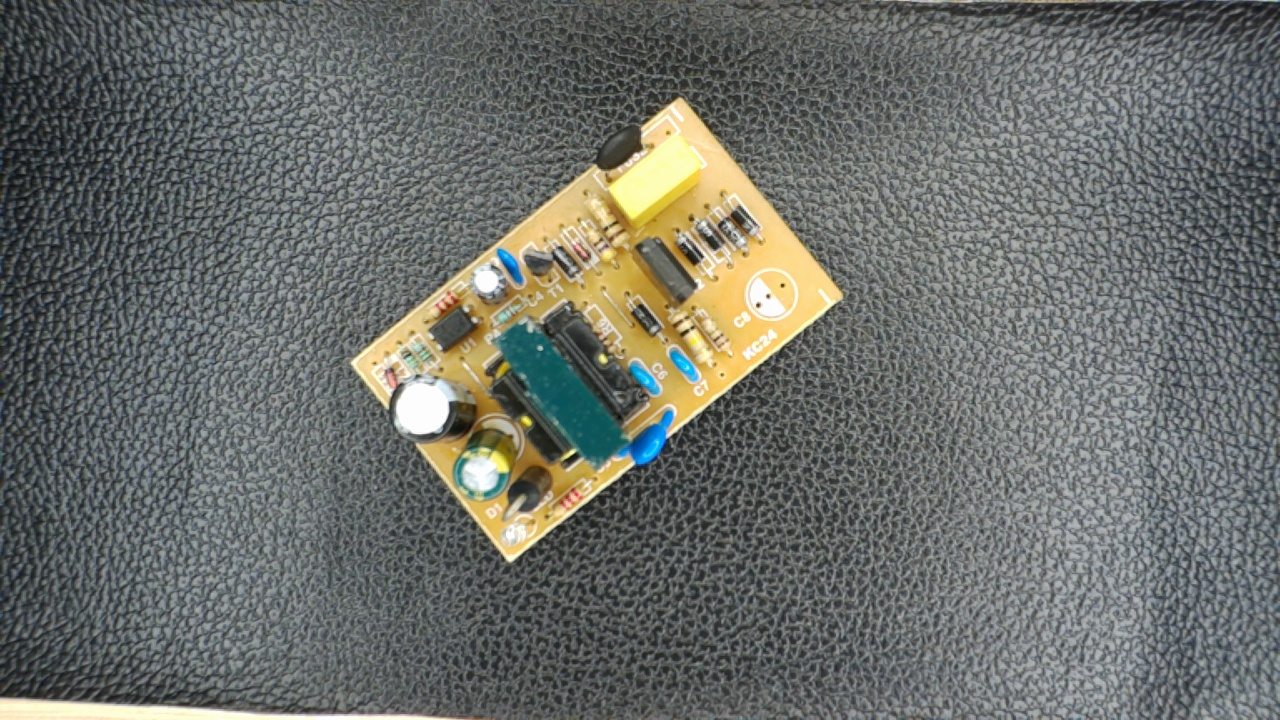fuse: (588, 122, 662, 185)
mov: (617, 405, 681, 470)
optocoupler: (422, 306, 480, 351)
